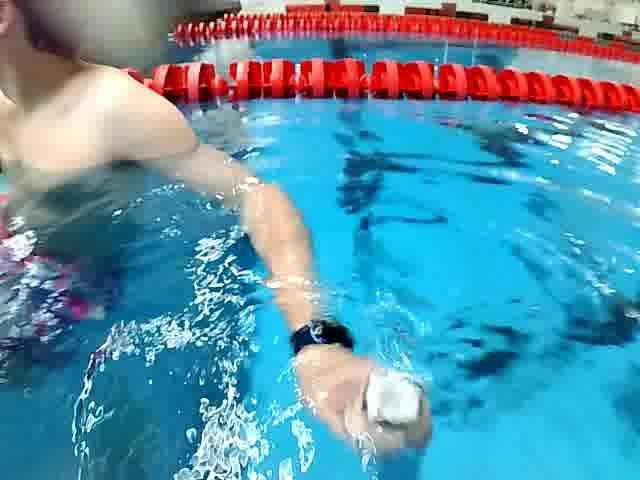Can: (349, 369, 424, 442)
